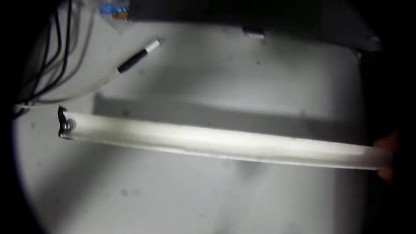gangzhu: (60, 117, 73, 136)
